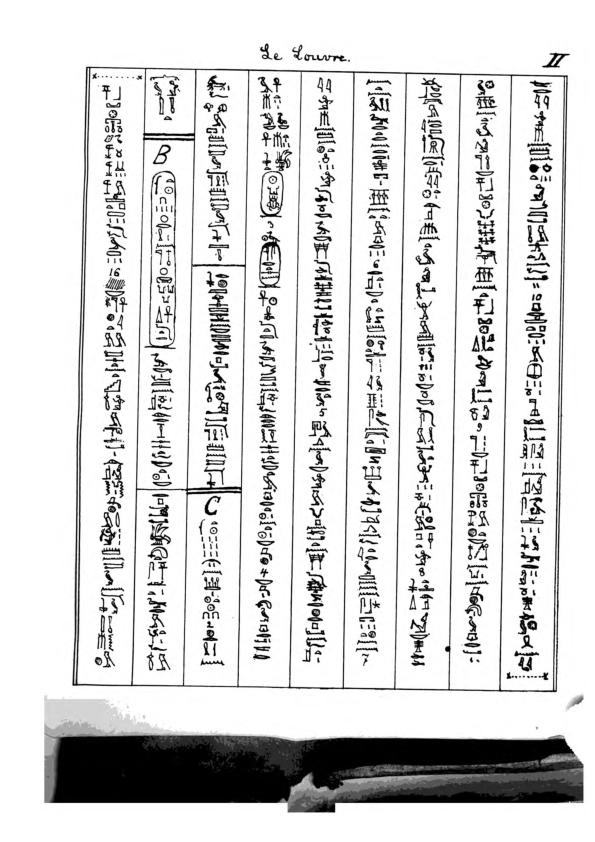circle: (146, 169, 179, 351), (259, 170, 284, 219), (257, 243, 283, 289)
